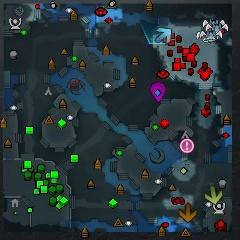Other: (180, 139, 194, 153)
p3: (150, 81, 166, 103)
x2: (205, 185, 222, 204)
x3: (156, 27, 172, 44)
x5: (178, 203, 198, 223)
